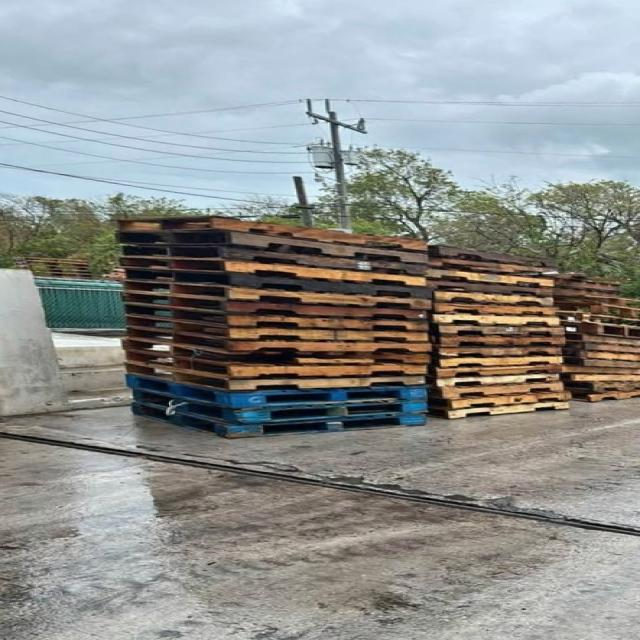non-igps: (108, 214, 433, 256), (127, 386, 434, 430), (110, 227, 436, 267), (117, 371, 432, 412), (126, 400, 434, 441), (118, 241, 434, 280), (111, 252, 432, 290), (115, 266, 438, 302), (116, 334, 436, 370), (117, 300, 435, 335), (112, 278, 437, 312), (120, 348, 431, 382), (112, 290, 432, 322), (118, 359, 428, 391), (119, 324, 438, 355), (120, 312, 436, 343), (422, 242, 560, 270), (424, 388, 578, 412), (421, 264, 557, 290), (418, 399, 577, 421), (424, 379, 570, 402), (424, 256, 557, 280), (422, 371, 564, 390), (423, 279, 557, 299), (430, 289, 557, 309), (431, 362, 568, 380), (436, 353, 568, 371), (428, 301, 560, 318), (551, 318, 640, 341), (547, 298, 640, 320), (428, 313, 564, 328), (426, 335, 571, 349), (435, 344, 566, 359), (434, 324, 572, 338), (549, 308, 640, 328), (546, 292, 640, 310), (538, 274, 625, 292), (559, 339, 640, 356), (559, 331, 640, 348), (560, 379, 639, 396), (556, 355, 640, 370), (566, 388, 639, 404), (556, 349, 640, 362), (550, 284, 623, 298), (555, 365, 640, 376), (554, 372, 640, 382)
